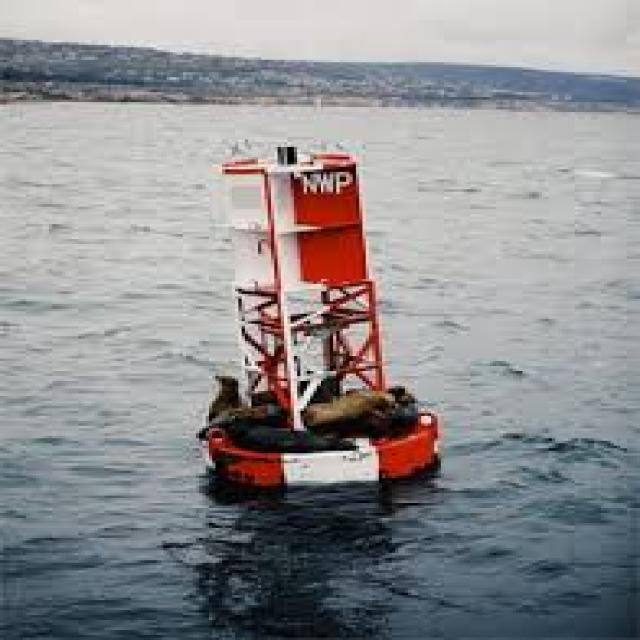marque: (169, 114, 460, 512)
